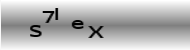7: (41, 9, 55, 24)
S: (29, 24, 42, 38)
X: (87, 25, 103, 39)
e: (71, 19, 83, 29)
l: (53, 7, 59, 21)
